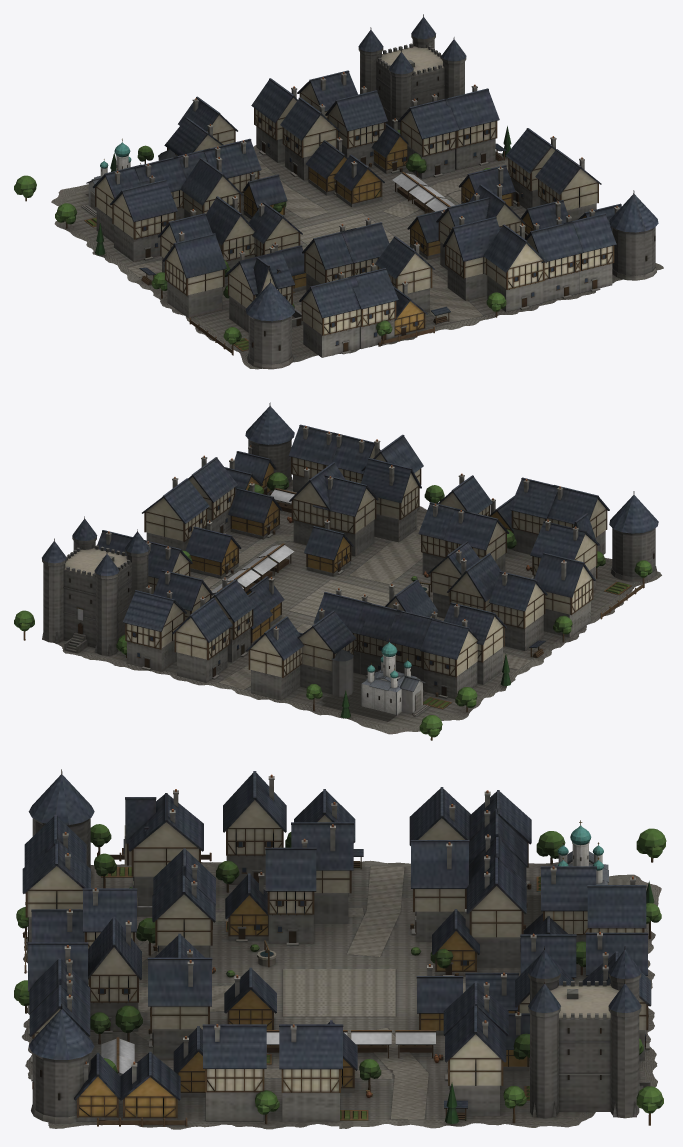
The model's file is kingdoms-town-big-a-easteurope.glb.
The picture shows the model from 3 angles, top to bottom: view 1: azimuth 30°, elevation 25°; view 2: azimuth 150°, elevation 25°; view 3: azimuth 270°, elevation 25°; orthographic projection. The views are drawn at different scales.
Visible parts, largest first — view 1: LOD0; view 2: LOD0; view 3: LOD0.
Part boxes in pixels (x1,y1,x2,y2): LOD0: (14,14,663,369); LOD0: (14,402,661,740); LOD0: (14,769,666,1129).
Size of what is drawn, in the model's own units: 8.11 by 1.84 by 8.14.
Materials: 3 (3 with a texture image).
